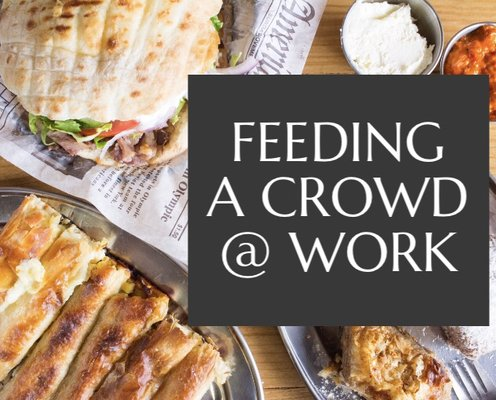sushi: (276, 326, 492, 397), (340, 0, 444, 74), (439, 21, 496, 100), (439, 21, 496, 75)
